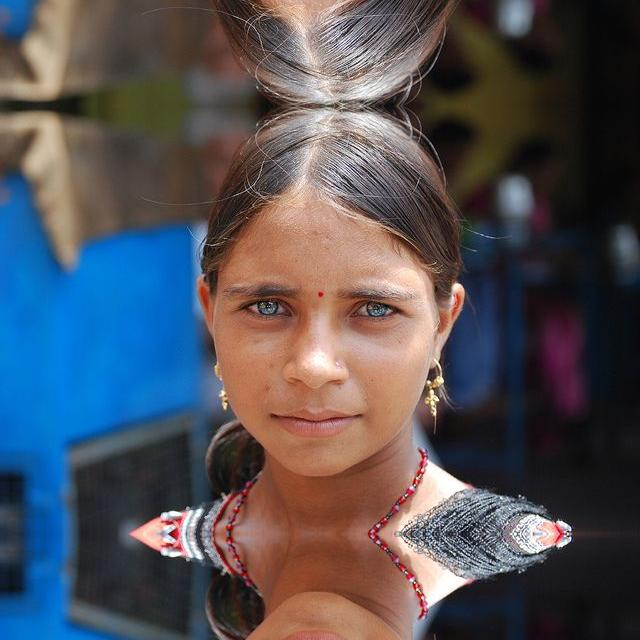person: (141, 106, 515, 534), (141, 0, 515, 106), (141, 534, 515, 640)
